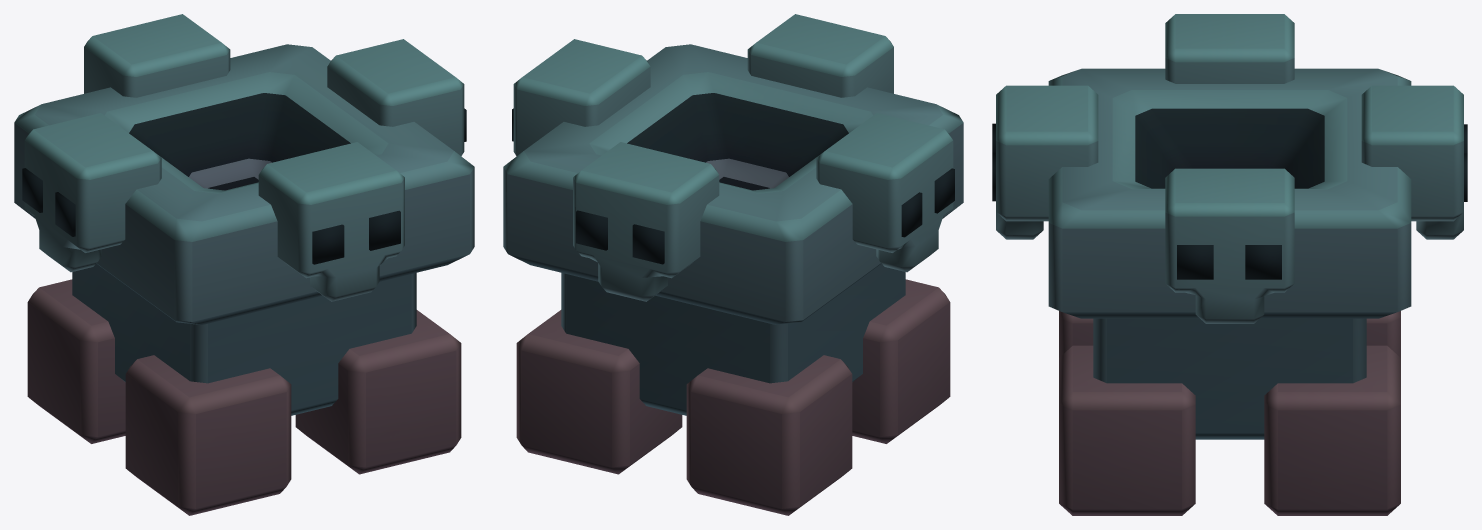
File: torch_big.fbx
3 renders of one model, left to right at view 1: azimuth 30°, elevation 25°; view 2: azimuth 150°, elevation 25°; view 3: azimuth 270°, elevation 25°, orthographic. The views are drawn at different scales.
Visible parts, largest first — view 1: torch_big; view 2: torch_big; view 3: torch_big.
Part boxes in pixels (left/top/right/bottom): torch_big: left=14, top=14, right=474, bottom=515; torch_big: left=503, top=14, right=963, bottom=515; torch_big: left=992, top=14, right=1467, bottom=515.
Size of the model in its own units: 174 by 138 by 174.
